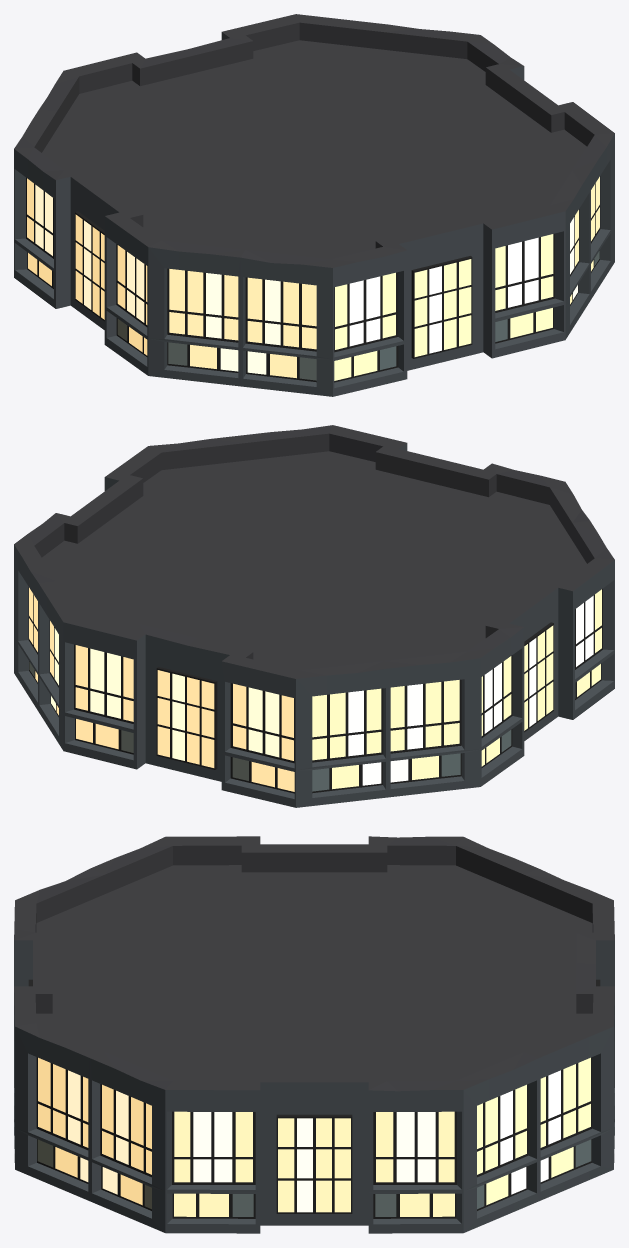
The model's file is SM_Bld_OfficeOctagon_Roof_01.fbx.
3 views of the same model, one above another, from view 1: azimuth 30°, elevation 25°; view 2: azimuth 150°, elevation 25°; view 3: azimuth 270°, elevation 25° (orthographic). The views are drawn at different scales.
Parts seen in each view (by area): view 1: SM_Bld_OfficeOctagon_Roof_01; view 2: SM_Bld_OfficeOctagon_Roof_01; view 3: SM_Bld_OfficeOctagon_Roof_01.
Boxes of the visible parts, box(x1,y1,x2,y2) form: SM_Bld_OfficeOctagon_Roof_01: box(14, 14, 614, 396); SM_Bld_OfficeOctagon_Roof_01: box(14, 425, 614, 807); SM_Bld_OfficeOctagon_Roof_01: box(14, 836, 614, 1233).
Size of the model in its own units: 2046 by 538 by 2046.
